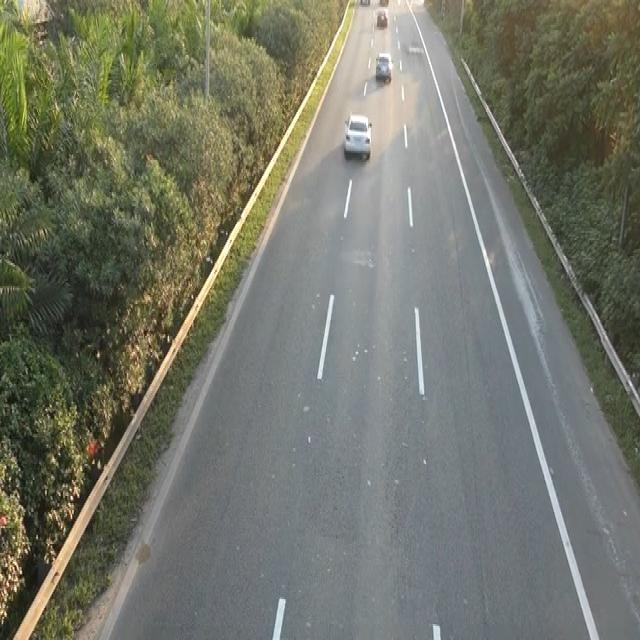bus: (341, 109, 375, 167), (374, 50, 393, 82)
